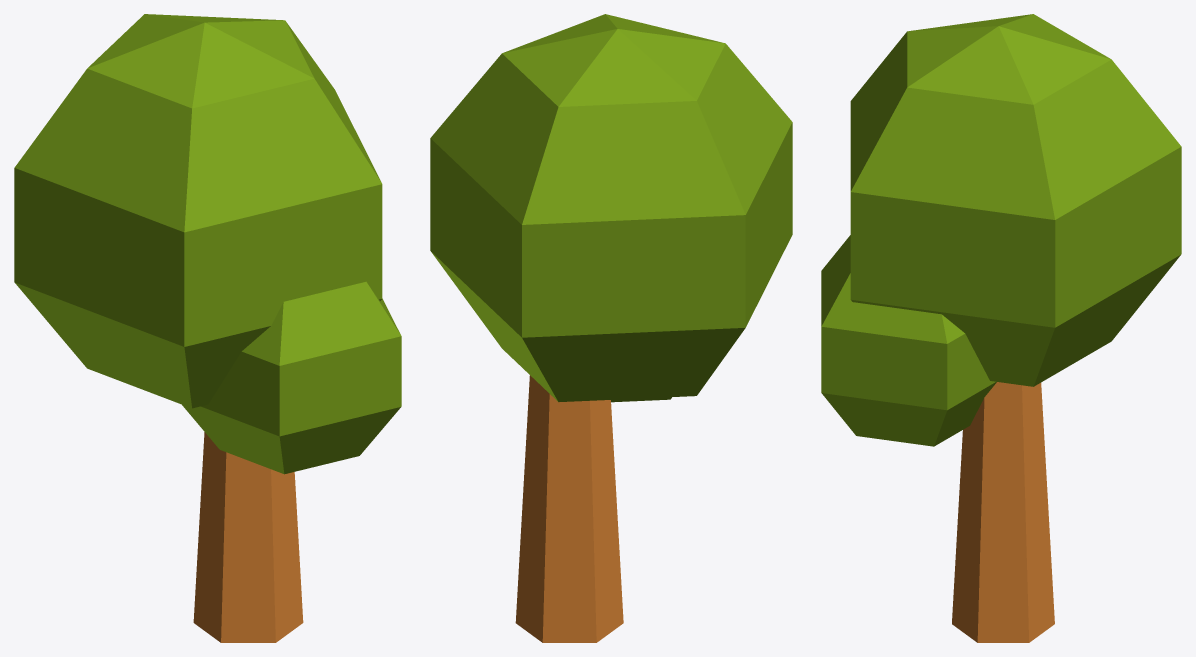
The model's file is Tree.fbx.
3 renders of one model, left to right at view 1: azimuth 30°, elevation 25°; view 2: azimuth 150°, elevation 25°; view 3: azimuth 270°, elevation 25°, orthographic. The views are drawn at different scales.
Visible parts, largest first — view 1: Leaves.187, Leaves.188, Trunk.075; view 2: Leaves.187, Trunk.075; view 3: Leaves.187, Trunk.075, Leaves.188.
Part boxes in pixels (box(x1,y1,x2,y2)): Leaves.187: box(14, 14, 382, 408); Leaves.188: box(182, 281, 401, 474); Trunk.075: box(193, 432, 303, 642); Leaves.187: box(430, 14, 792, 402); Trunk.075: box(515, 375, 623, 642); Leaves.187: box(850, 14, 1181, 386); Trunk.075: box(952, 382, 1054, 642); Leaves.188: box(821, 235, 996, 446).
Size of the model in its own units: 684 by 1251 by 708.
